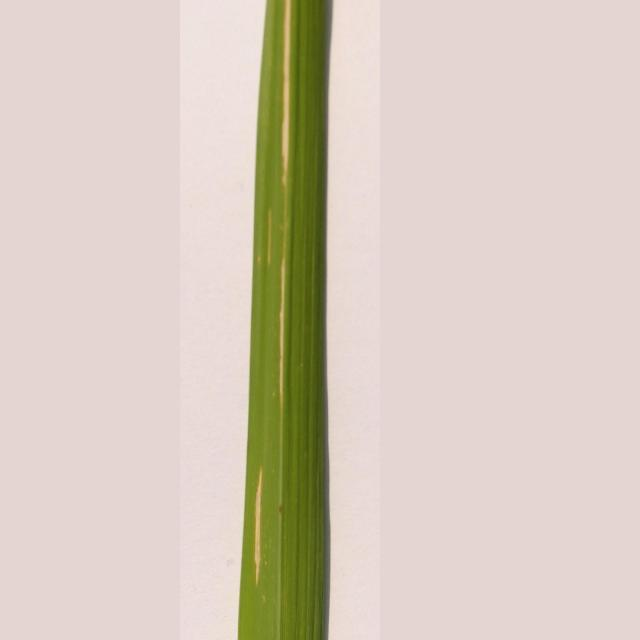leaf blight: (249, 3, 319, 585)
